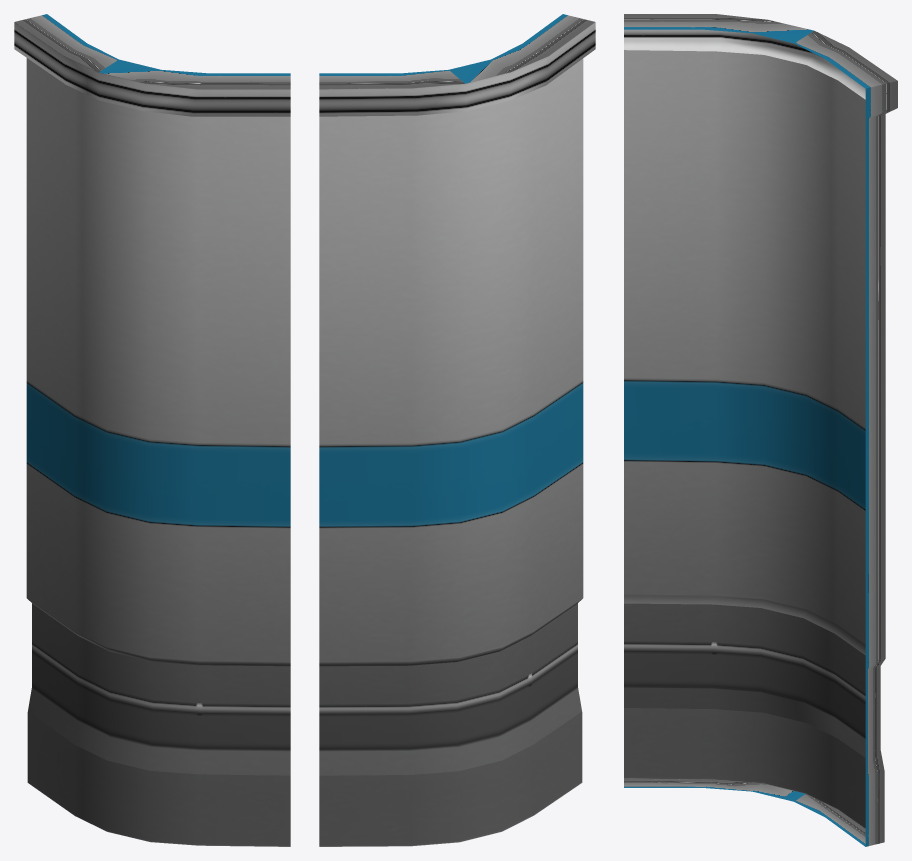
Rendered from OBT_UOT_BB.fbx.
3 views of the same model, side by side, from view 1: azimuth 90°, elevation 25°; view 2: azimuth 150°, elevation 25°; view 3: azimuth 270°, elevation 25° (orthographic).
Visible parts, largest first — view 1: OBT_UOT_BB; view 2: OBT_UOT_BB; view 3: OBT_UOT_BB.
Part boxes in pixels (box(x1,y1,x2,y2)): OBT_UOT_BB: box(14, 14, 290, 846); OBT_UOT_BB: box(319, 14, 595, 846); OBT_UOT_BB: box(624, 14, 897, 846).
Size of the model in its own units: 0.9509 by 4.5 by 1.47.
